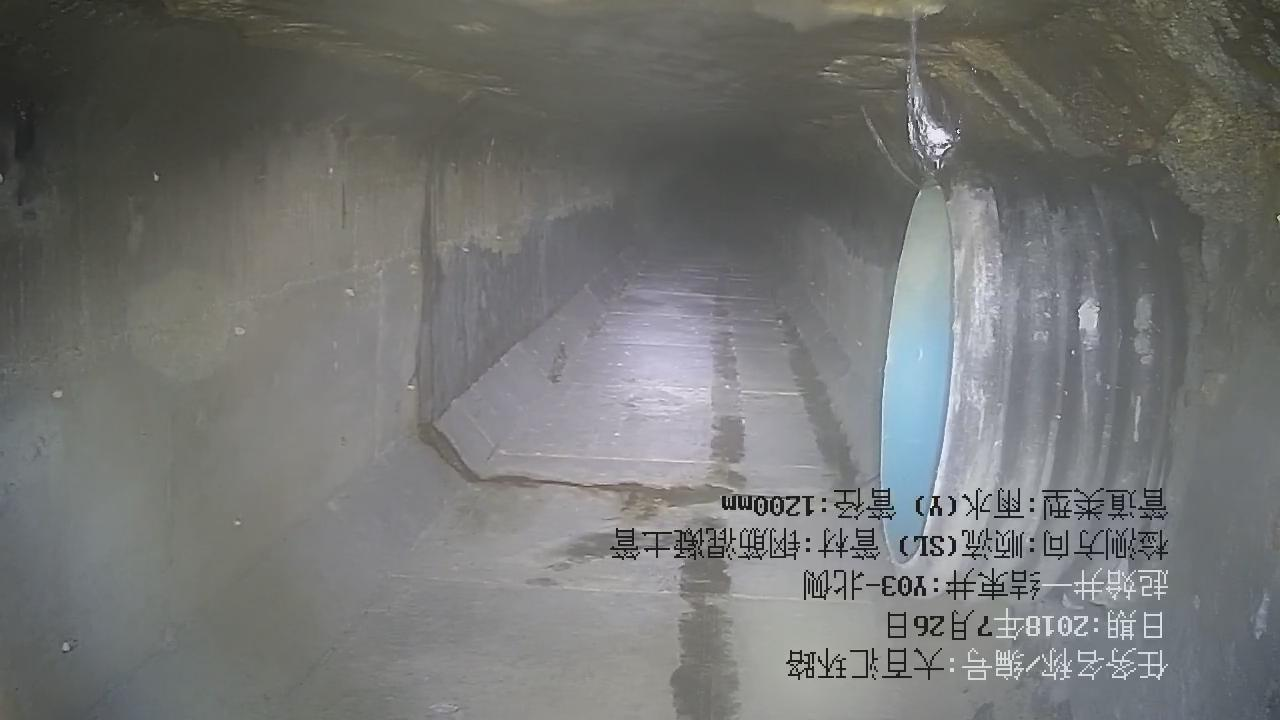ZGAJ: (861, 184, 1188, 606)
